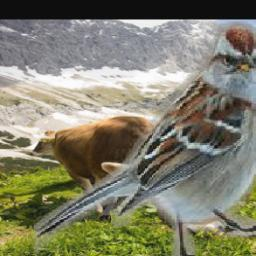Sparrow: (33, 21, 256, 256)
